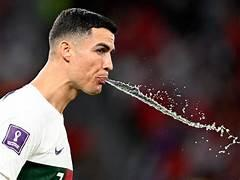Spitting: (30, 1, 145, 111)
